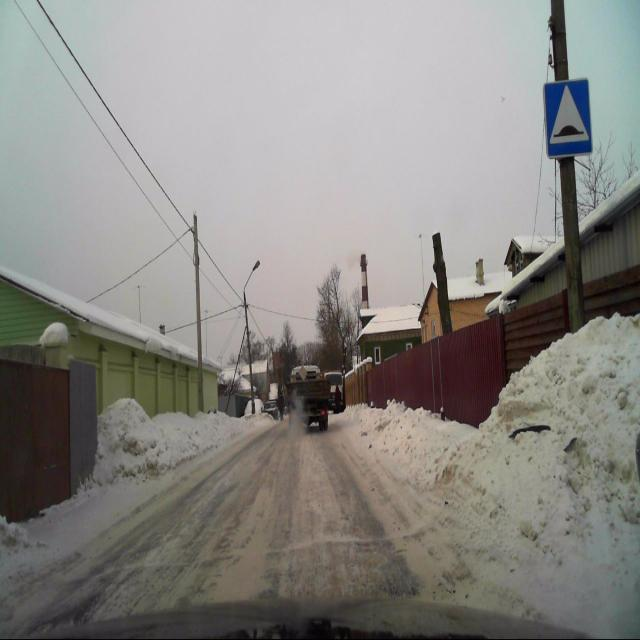road sign: (544, 80, 592, 157)
